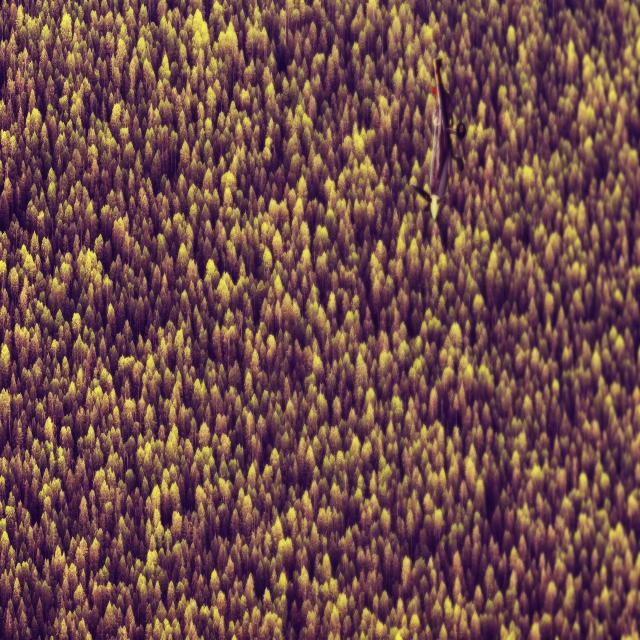airplane: (409, 57, 466, 221)
